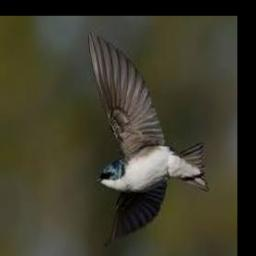Swallow: (86, 31, 208, 246)
